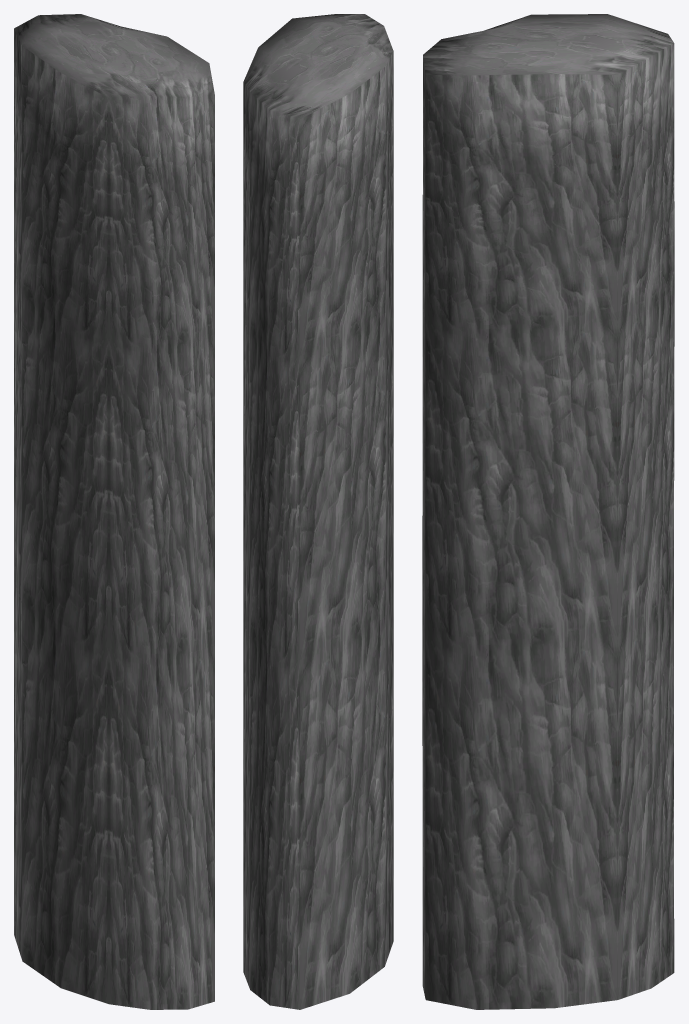
Rendered from SWORDLIGHT20_PS-AREA01 PLATFORM01.fbx.
3 views of the same model, side by side, from view 1: azimuth 30°, elevation 25°; view 2: azimuth 150°, elevation 25°; view 3: azimuth 270°, elevation 25° (orthographic). The views are drawn at different scales.
Parts seen in each view (by area): view 1: SWORDLIGHT20_PS-AREA01 PLATFORM01; view 2: SWORDLIGHT20_PS-AREA01 PLATFORM01; view 3: SWORDLIGHT20_PS-AREA01 PLATFORM01.
Part boxes in pixels (<box>): SWORDLIGHT20_PS-AREA01 PLATFORM01: <box>14,14,214,1009</box>; SWORDLIGHT20_PS-AREA01 PLATFORM01: <box>243,14,393,1009</box>; SWORDLIGHT20_PS-AREA01 PLATFORM01: <box>422,14,674,1009</box>.
Bounding box in the file's own units: 30000 × 214218 × 52012.
2 materials, 2 textured.
